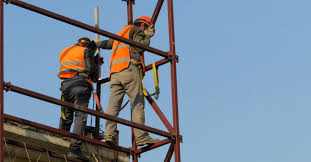vest: (112, 28, 146, 75), (59, 48, 88, 79)
